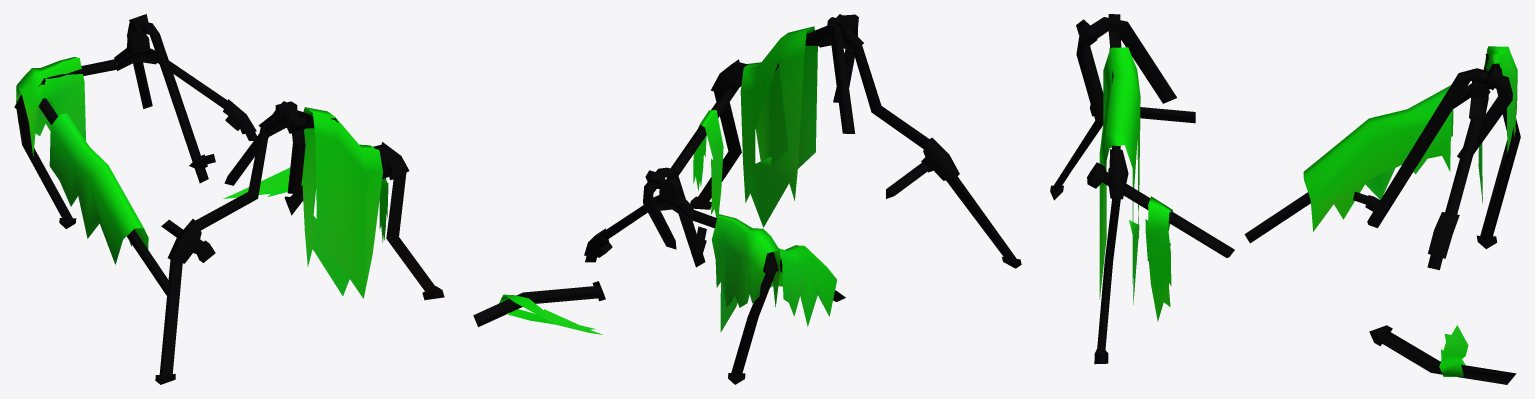
File: env_camping_raintent03_lod1.fbx
3 renders of one model, left to right at view 1: azimuth 30°, elevation 25°; view 2: azimuth 150°, elevation 25°; view 3: azimuth 270°, elevation 25°, orthographic. The views are drawn at different scales.
Parts seen in each view (by area): view 1: env_camping_raintent03_lod1; view 2: env_camping_raintent03_lod1; view 3: env_camping_raintent03_lod1.
Boxes of the visible parts, x1,y1,x2,y2 form: env_camping_raintent03_lod1: (14, 14, 444, 384); env_camping_raintent03_lod1: (473, 14, 1021, 384); env_camping_raintent03_lod1: (1050, 14, 1520, 384).
Size of the model in its own units: 39.94 by 25.22 by 40.63.
